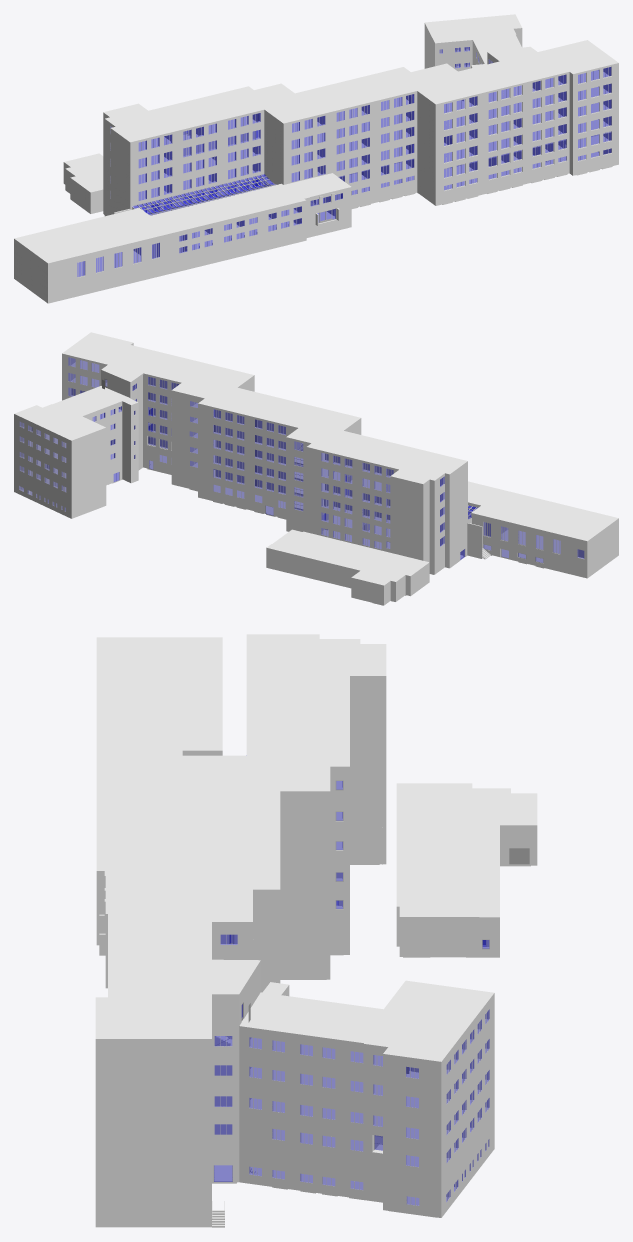
Rendered from NEXT Frederiksberg_detached-ver 2.fbx.
The picture shows the model from 3 angles, top to bottom: view 1: azimuth 30°, elevation 25°; view 2: azimuth 150°, elevation 25°; view 3: azimuth 270°, elevation 25°; orthographic projection. The views are drawn at different scales.
Parts seen in each view (by area): view 1: Walls, Roofs, window, Floors, Rectangular Column, System Panel, Rectangular Mullion; view 2: Walls, Roofs, window, Floors, DOR_Generic-Double_WB_RDK, Stairs; view 3: Roofs, Walls, window, Floors.
Part boxes in pixels (x1,y1,x2,y2): Walls: [14, 25, 618, 303]; Roofs: [14, 14, 618, 264]; window: [77, 46, 612, 277]; Floors: [77, 49, 612, 276]; Rectangular Column: [252, 68, 602, 206]; System Panel: [133, 174, 335, 218]; Rectangular Mullion: [135, 175, 336, 223]; Walls: [14, 344, 618, 605]; Roofs: [14, 332, 618, 586]; window: [18, 356, 560, 554]; Floors: [23, 360, 560, 605]; DOR_Generic-Double_WB_RDK: [114, 408, 583, 559]; Stairs: [135, 400, 490, 559]; Roofs: [95, 634, 537, 1064]; Walls: [95, 679, 537, 1227]; window: [213, 908, 489, 1206]; Floors: [212, 781, 530, 1217].
Size of the model in its own units: 444 by 160 by 76.35.
Materials: 12 (2 with a texture image).
